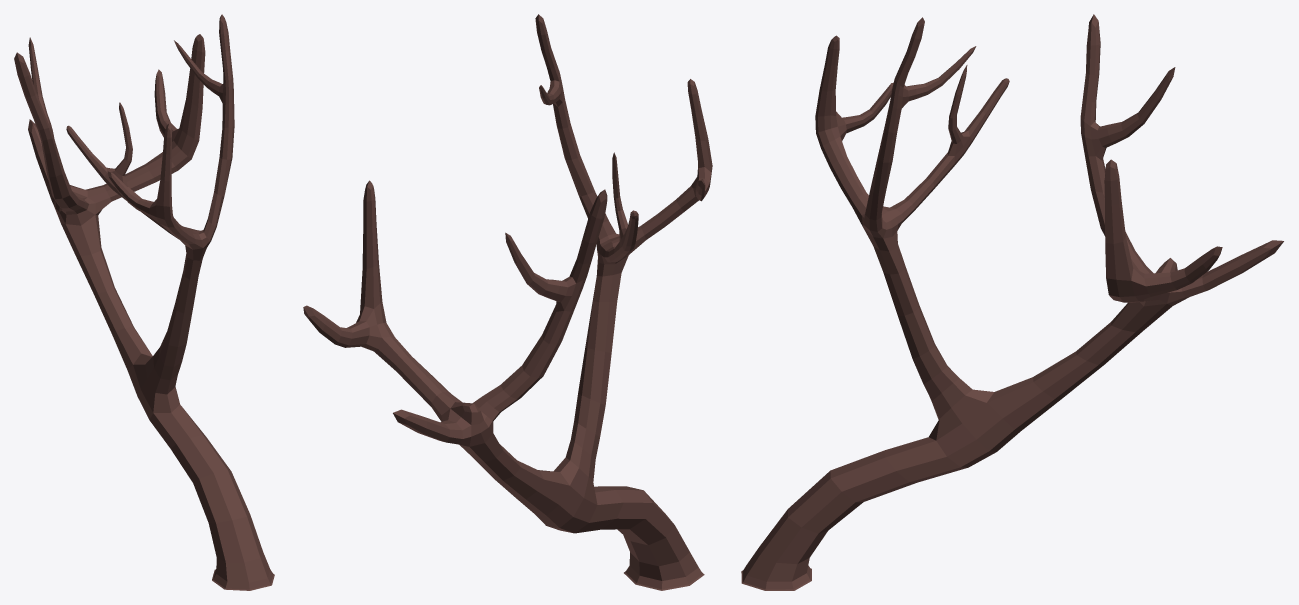
Rendered from Willow_Dead_2.glb.
3 views of the same model, side by side, from view 1: azimuth 30°, elevation 25°; view 2: azimuth 150°, elevation 25°; view 3: azimuth 270°, elevation 25° (orthographic). The views are drawn at different scales.
Parts seen in each view (by area): view 1: Willow_Dead_2_Cube.110; view 2: Willow_Dead_2_Cube.110; view 3: Willow_Dead_2_Cube.110.
Part boxes in pixels (x1=…): Willow_Dead_2_Cube.110: x1=14, y1=14, x2=274, y2=590; Willow_Dead_2_Cube.110: x1=303, y1=14, x2=712, y2=590; Willow_Dead_2_Cube.110: x1=741, y1=14, x2=1283, y2=590.
Bounding box in the file's own units: 1.17 × 2.84 × 2.4.
